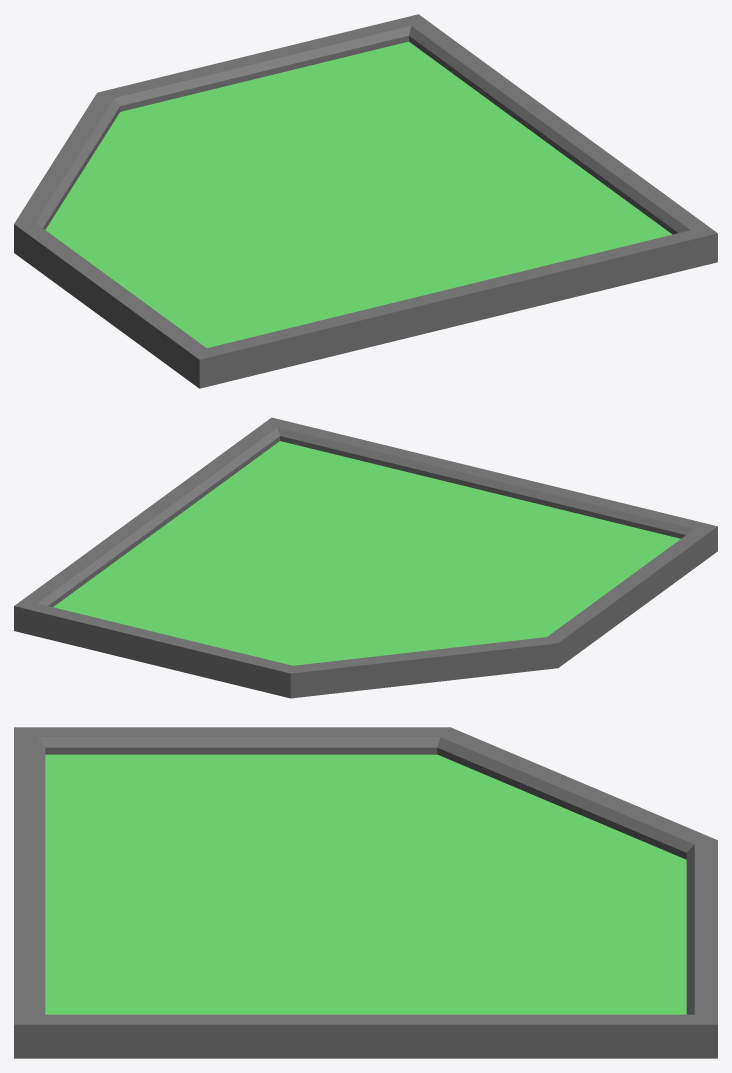
File: Tile.fbx
The picture shows the model from 3 angles, top to bottom: view 1: azimuth 30°, elevation 25°; view 2: azimuth 150°, elevation 25°; view 3: azimuth 270°, elevation 25°; orthographic projection. The views are drawn at different scales.
Visible parts, largest first — view 1: Tile1.002; view 2: Tile1.002; view 3: Tile1.002.
Part boxes in pixels (x1,y1,x2,y2): Tile1.002: [14, 14, 717, 388]; Tile1.002: [14, 417, 717, 698]; Tile1.002: [14, 727, 717, 1058].
Size of the model in its own units: 200 by 10.67 by 200.
